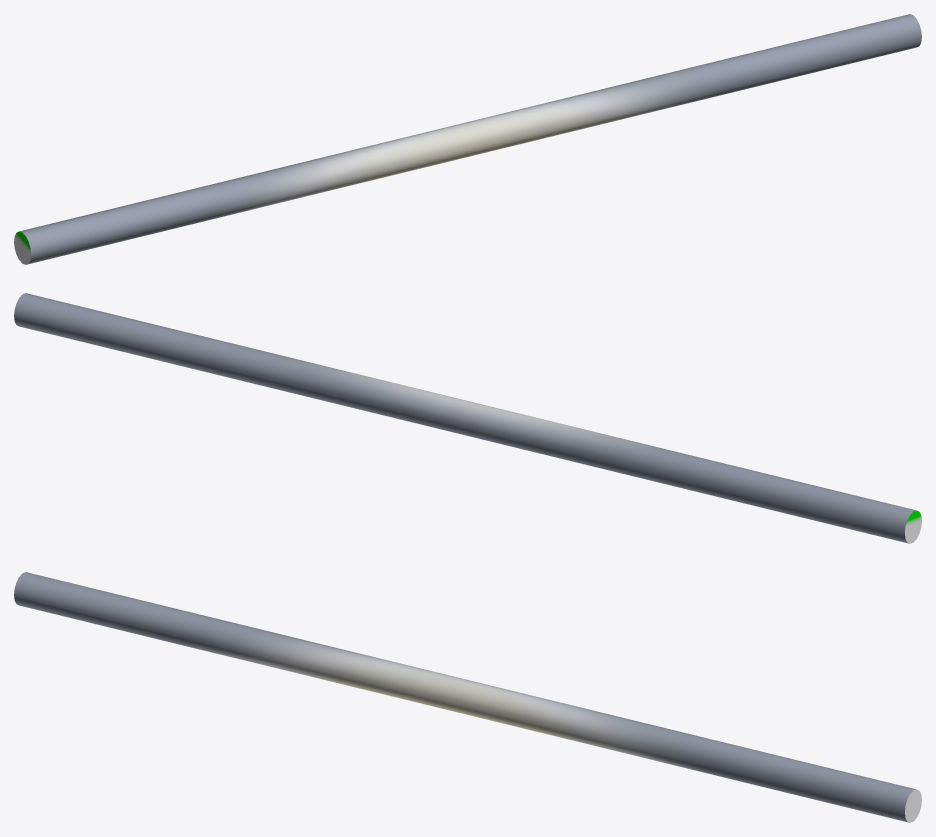
Rendered from zrail3.obj.
3 views of the same model, one above another, from view 1: azimuth 30°, elevation 25°; view 2: azimuth 150°, elevation 25°; view 3: azimuth 330°, elevation 25° (orthographic).
Parts seen in each view (by area): view 1: cylinder1_mtrl/chrome; view 2: cylinder1_mtrl/chrome; view 3: cylinder1_mtrl/chrome.
Boxes of the visible parts, x1,y1,x2,y2 form: cylinder1_mtrl/chrome: (19, 14, 921, 264); cylinder1_mtrl/chrome: (14, 293, 916, 543); cylinder1_mtrl/chrome: (14, 572, 916, 822).
Bounding box in the file's own units: 192 × 6.4 × 6.4.
